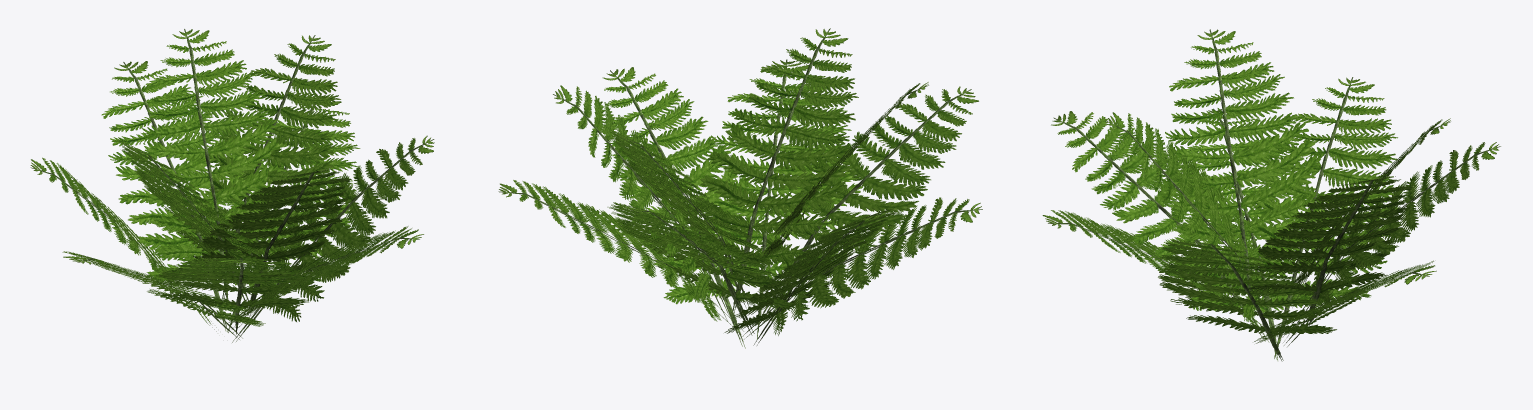
File: ScrubFern01.fbx
3 views of the same model, side by side, from view 1: azimuth 30°, elevation 25°; view 2: azimuth 150°, elevation 25°; view 3: azimuth 270°, elevation 25° (orthographic). The views are drawn at different scales.
Parts seen in each view (by area): view 1: Ferns01; view 2: Ferns01; view 3: Ferns01.
Part boxes in pixels (<box>): Ferns01: <box>30,29,434,342</box>; Ferns01: <box>498,28,982,348</box>; Ferns01: <box>1042,29,1500,361</box>.
Bounding box in the file's own units: 89.82 × 61.44 × 95.19.
